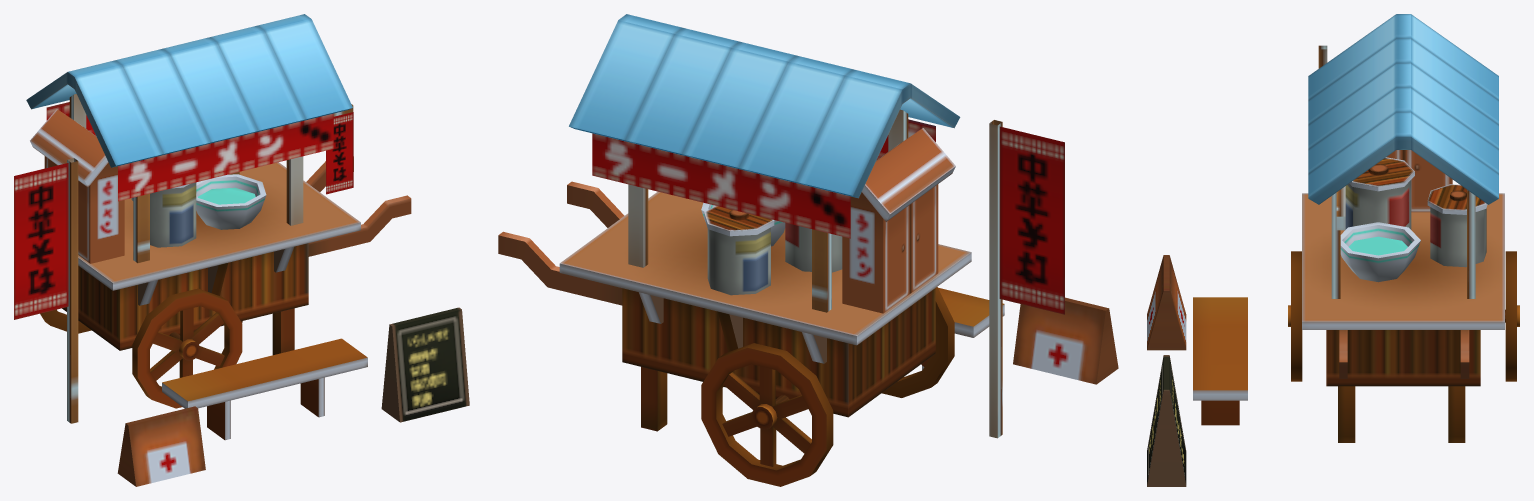
File: groceries.FBX
3 views of the same model, side by side, from view 1: azimuth 30°, elevation 25°; view 2: azimuth 150°, elevation 25°; view 3: azimuth 270°, elevation 25° (orthographic). The views are drawn at different scales.
Parts seen in each view (by area): view 1: groceries_01; view 2: groceries_01; view 3: groceries_01.
Part boxes in pixels (x1,y1,x2,y2): groceries_01: (14, 14, 469, 486); groceries_01: (498, 14, 1118, 486); groceries_01: (1147, 14, 1519, 486).
Bounding box in the file's own units: 65082 × 47733 × 49003.
